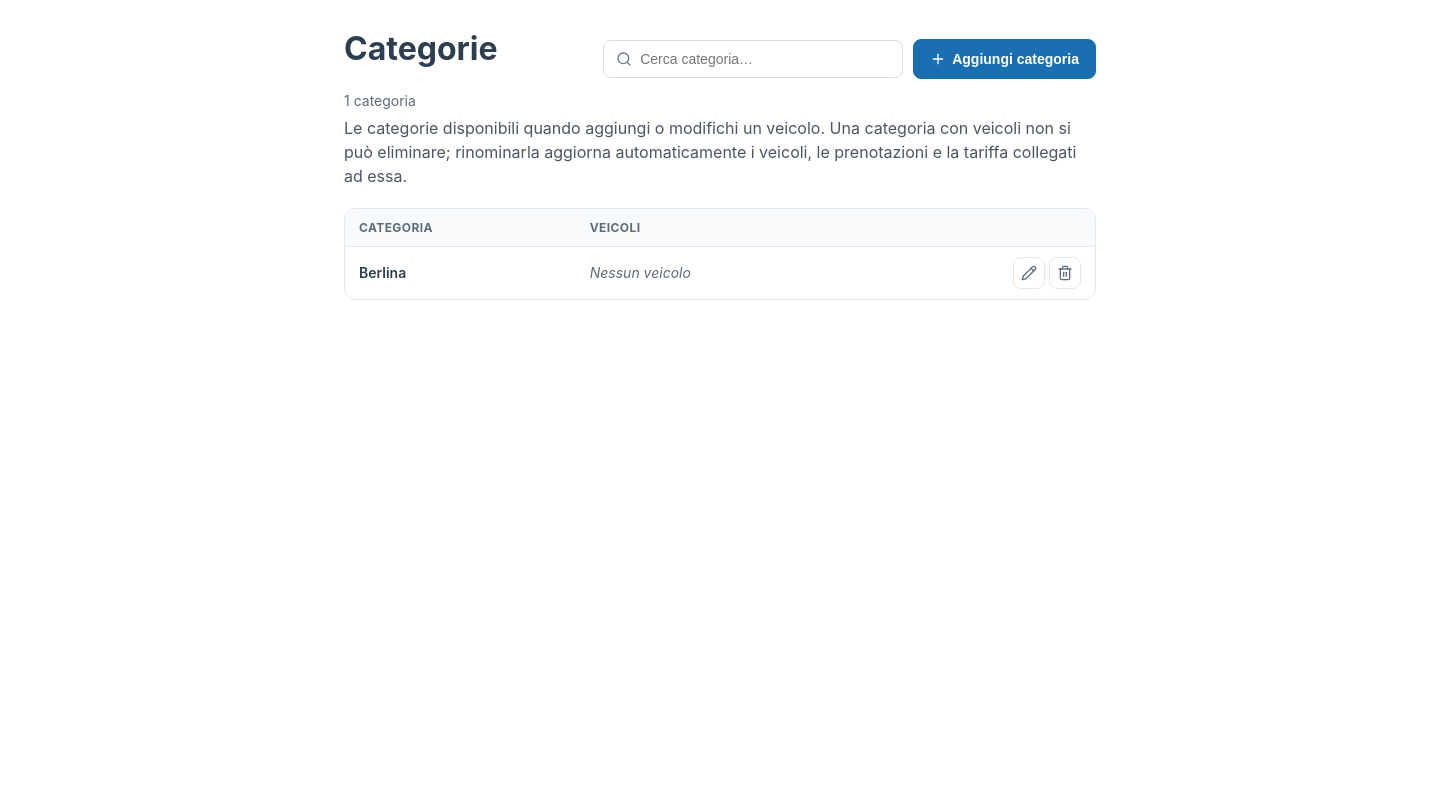
Test: eliminare una categoria senza veicoli né tariffa non promette effetti che non ci sono
Expected: the text "Berlina" is shown, [345,246,576,299]
Click the button named "Elimina" at (1065, 273), box [1049,257,1081,289]
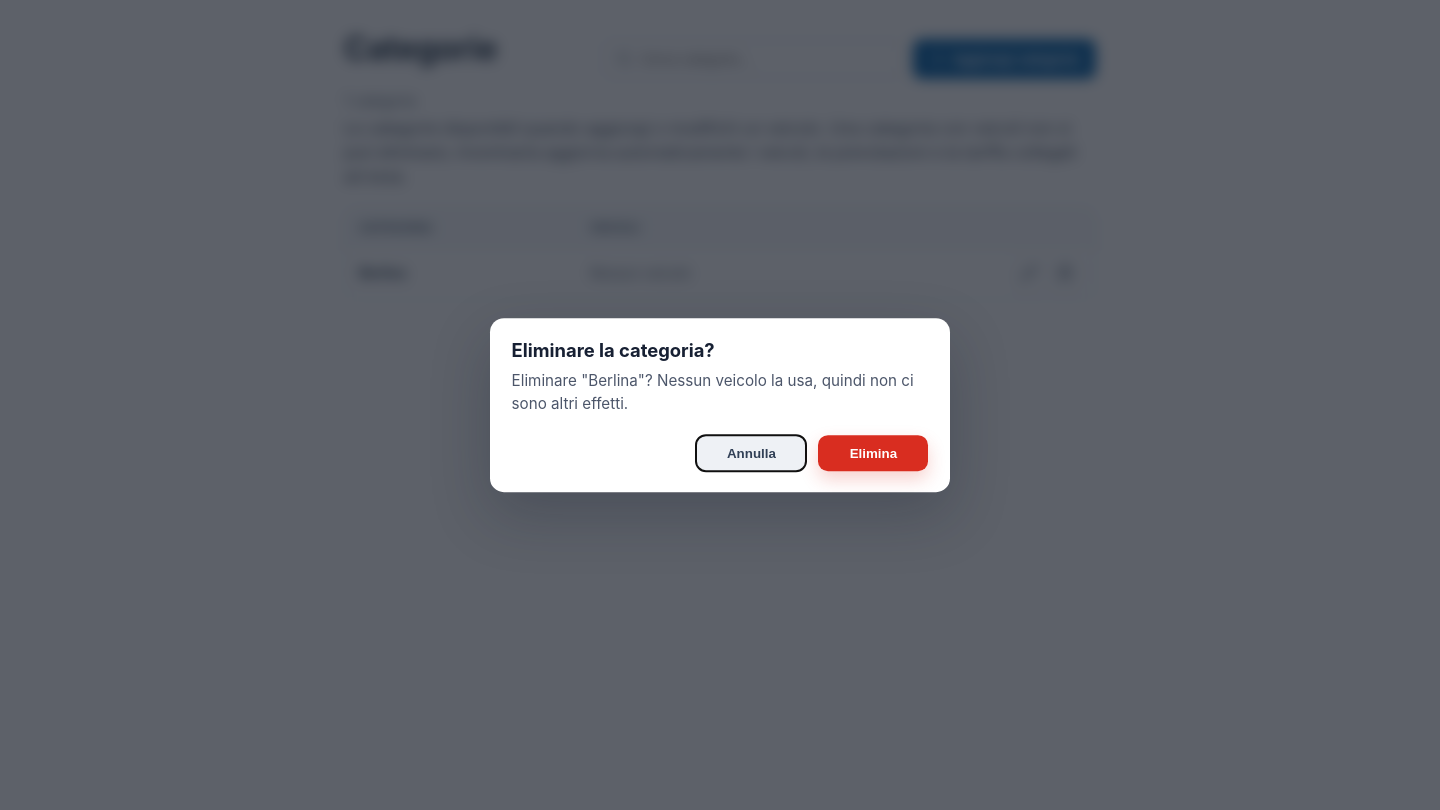
Now the text "Nessun veicolo la usa, quindi non ci sono altri effetti" is shown, box [512,372,914,413]
